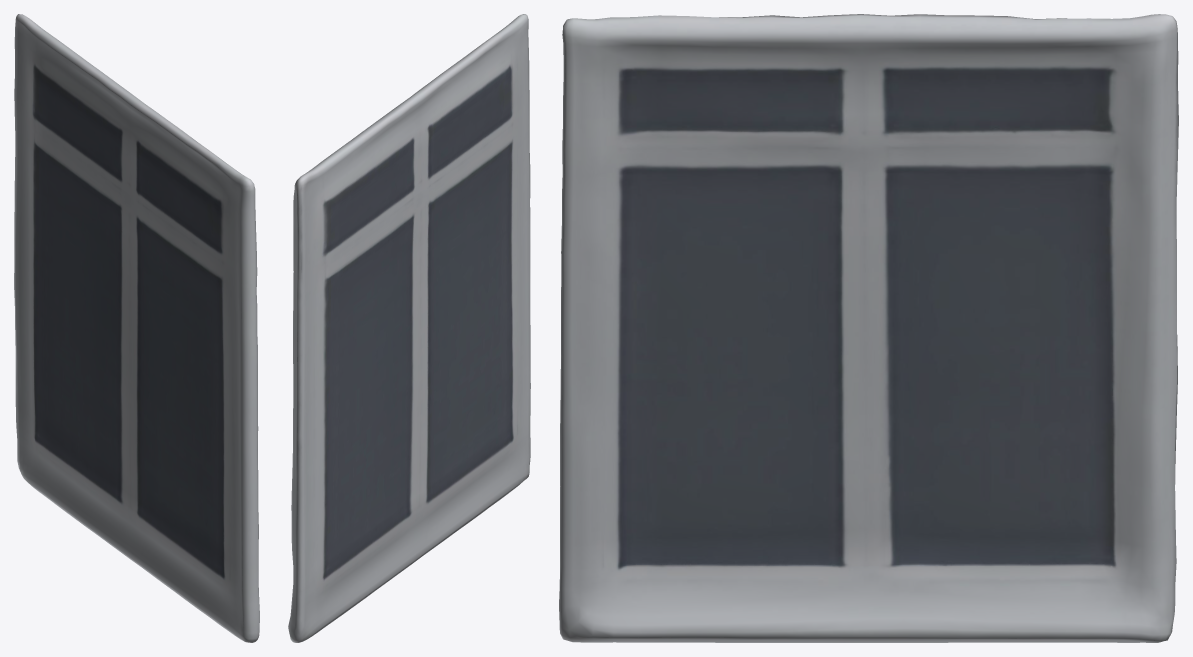
Rendered from 0e1980ef0b5a_Window__3d_asset_0_.fbx.
3 views of the same model, side by side, from view 1: azimuth 30°, elevation 25°; view 2: azimuth 150°, elevation 25°; view 3: azimuth 270°, elevation 25° (orthographic). The views are drawn at different scales.
Visible parts, largest first — view 1: mesh; view 2: mesh; view 3: mesh.
Boxes of the visible parts, <box> form: mesh: <box>14,14,259,642</box>; mesh: <box>288,14,530,642</box>; mesh: <box>559,14,1178,642</box>.
Size of the model in its own units: 6.32 by 99.85 by 90.
